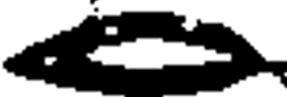Mouth: (4, 13, 270, 97)
